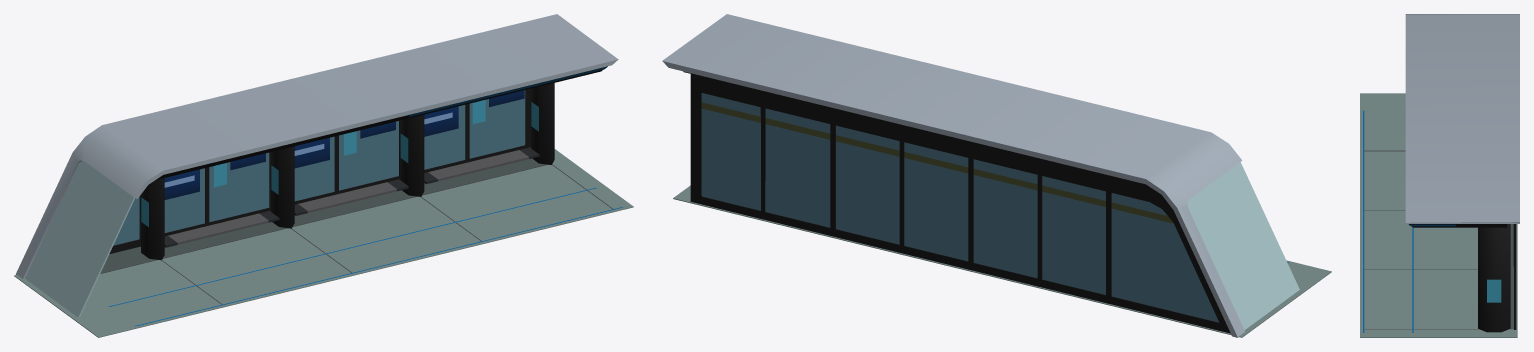
File: W_O_Busstop_002_L3.fbx
The picture shows the model from 3 angles, left to right: view 1: azimuth 30°, elevation 25°; view 2: azimuth 150°, elevation 25°; view 3: azimuth 270°, elevation 25°; orthographic projection. The views are drawn at different scales.
Visible parts, largest first — view 1: W_O_Busstop_002_L3; view 2: W_O_Busstop_002_L3; view 3: W_O_Busstop_002_L3.
Part boxes in pixels (x1,y1,x2,y2): W_O_Busstop_002_L3: (14, 14, 633, 337); W_O_Busstop_002_L3: (662, 14, 1331, 337); W_O_Busstop_002_L3: (1360, 14, 1519, 337).
Bounding box in the file's own units: 29.57 × 6.69 × 8.06.
